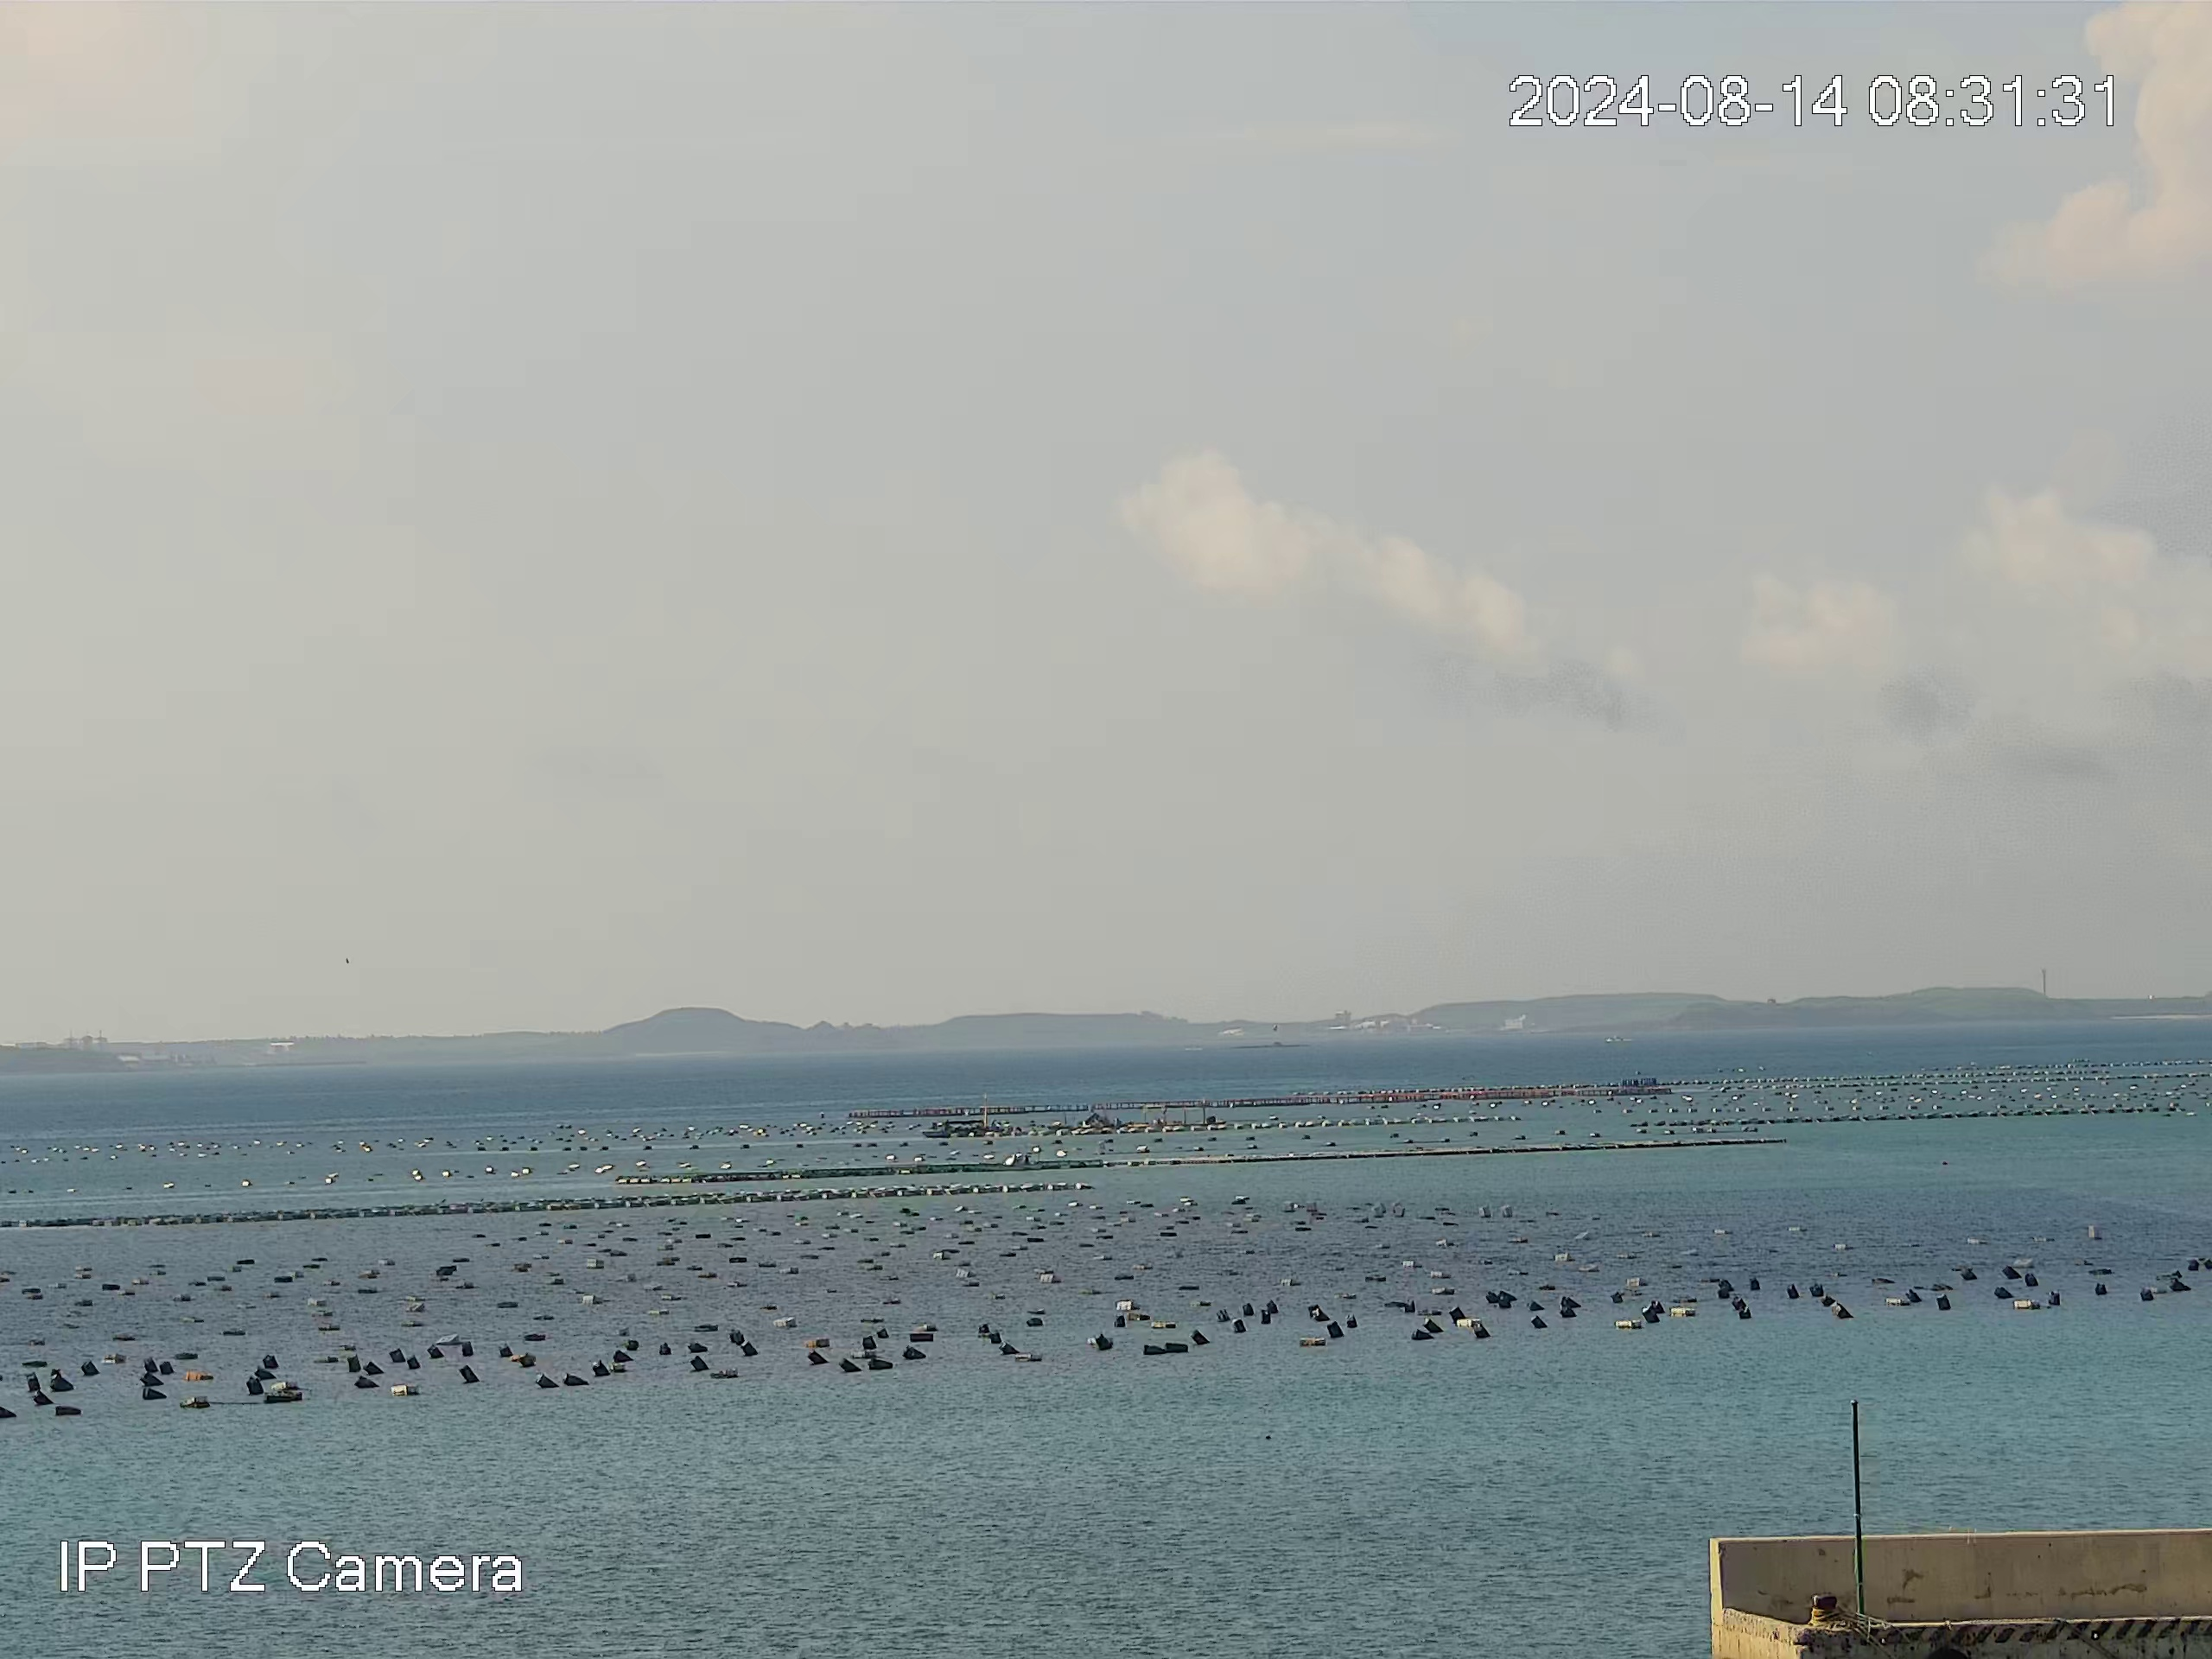boat: (923, 1117, 995, 1140)
